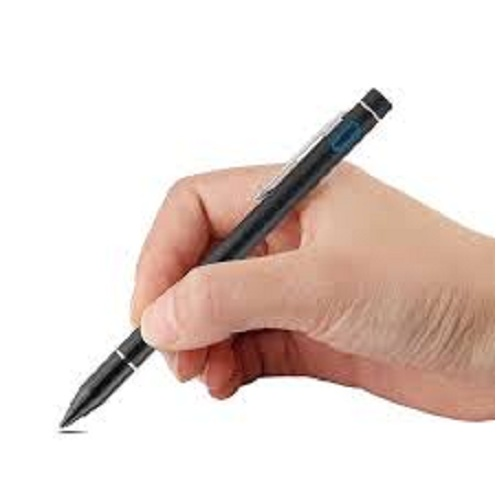Boligrafo: (57, 84, 399, 431)
